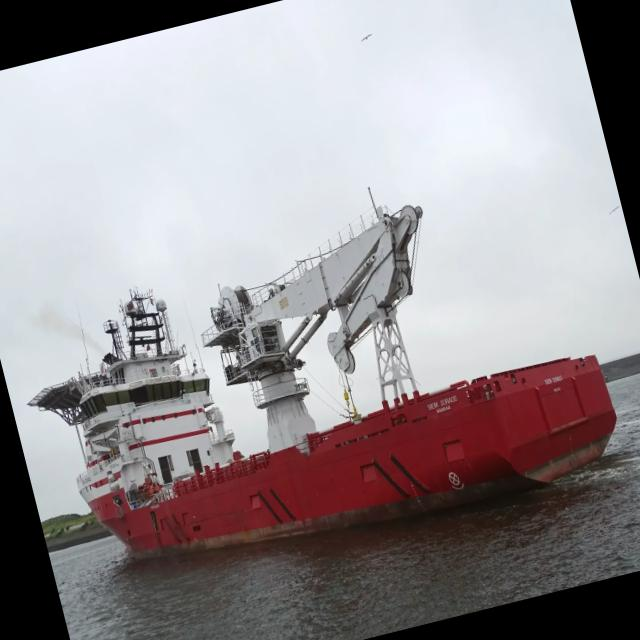Offshore: (29, 205, 616, 556)
